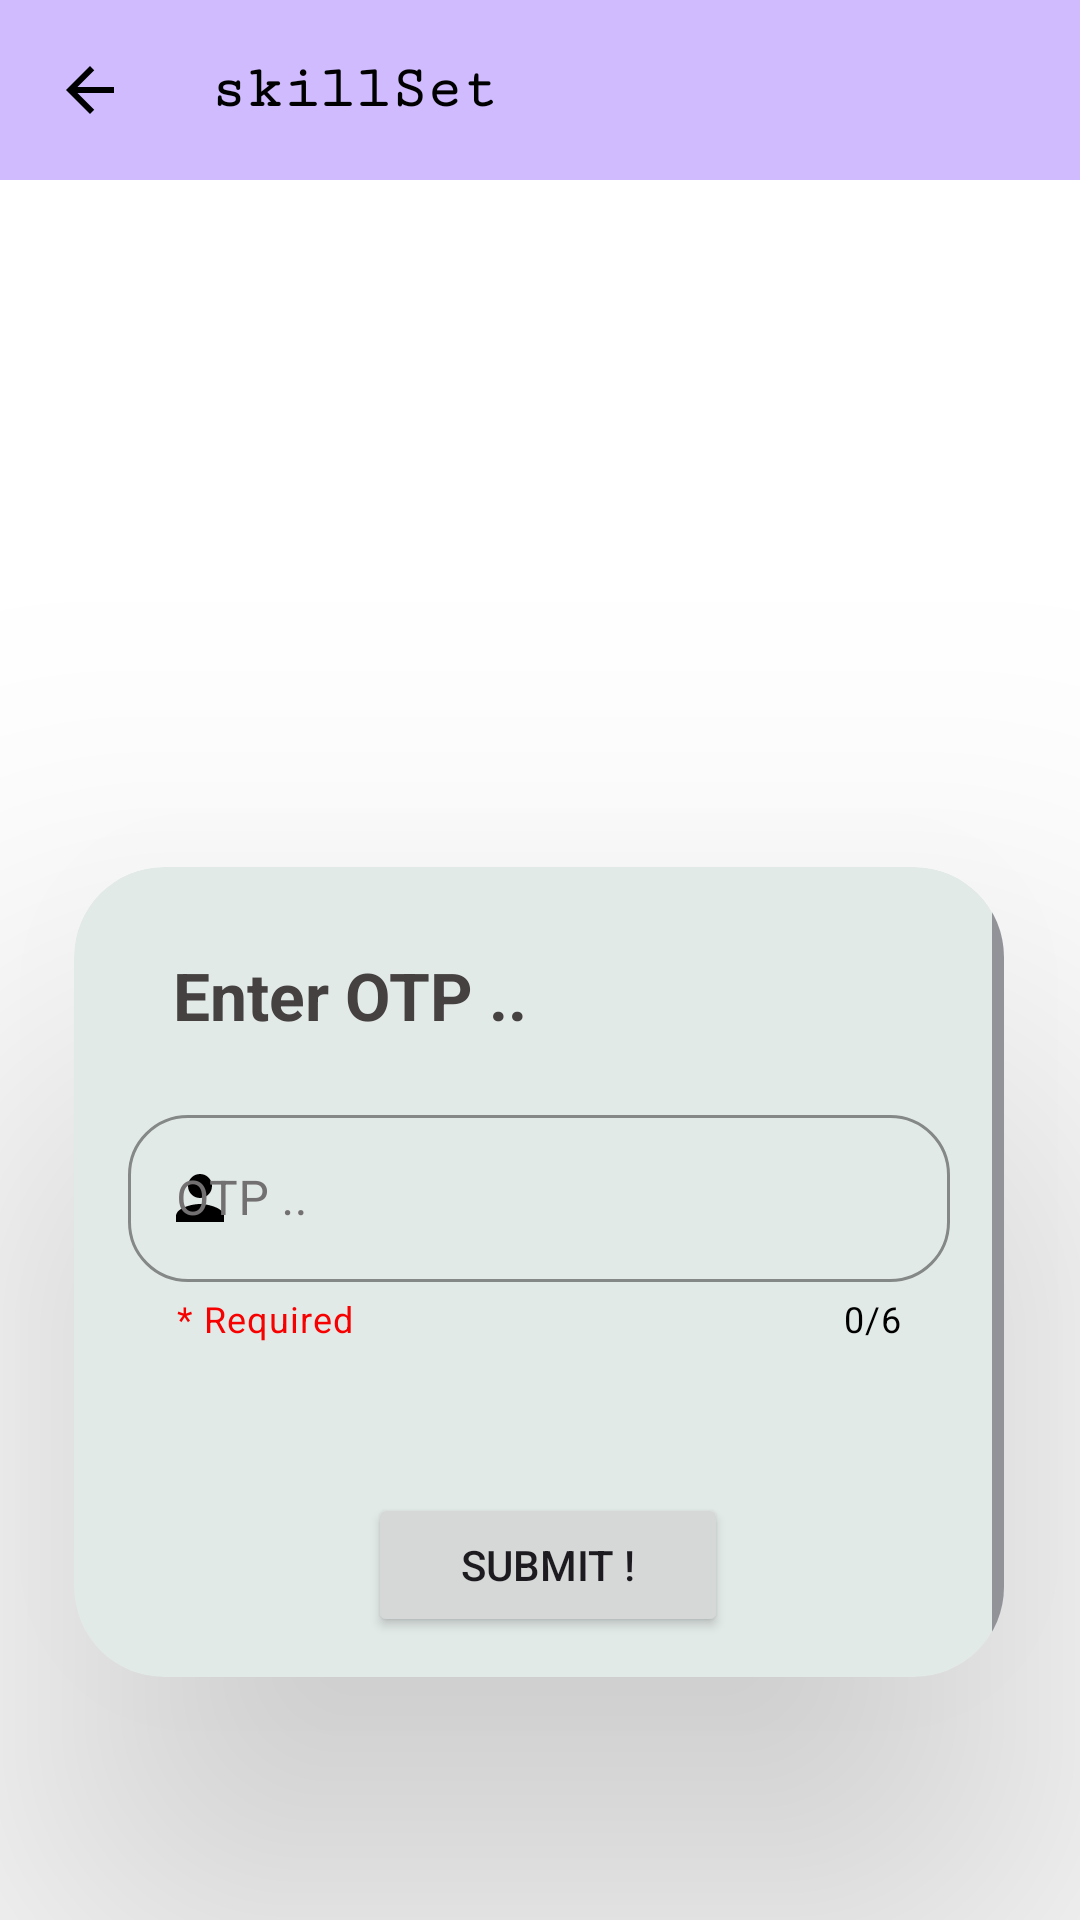

Icon bounding boxes for this 1080px x 1920px phone screenshot, format (x1, y1, x2, y2):
file back: (66, 66, 114, 114)
